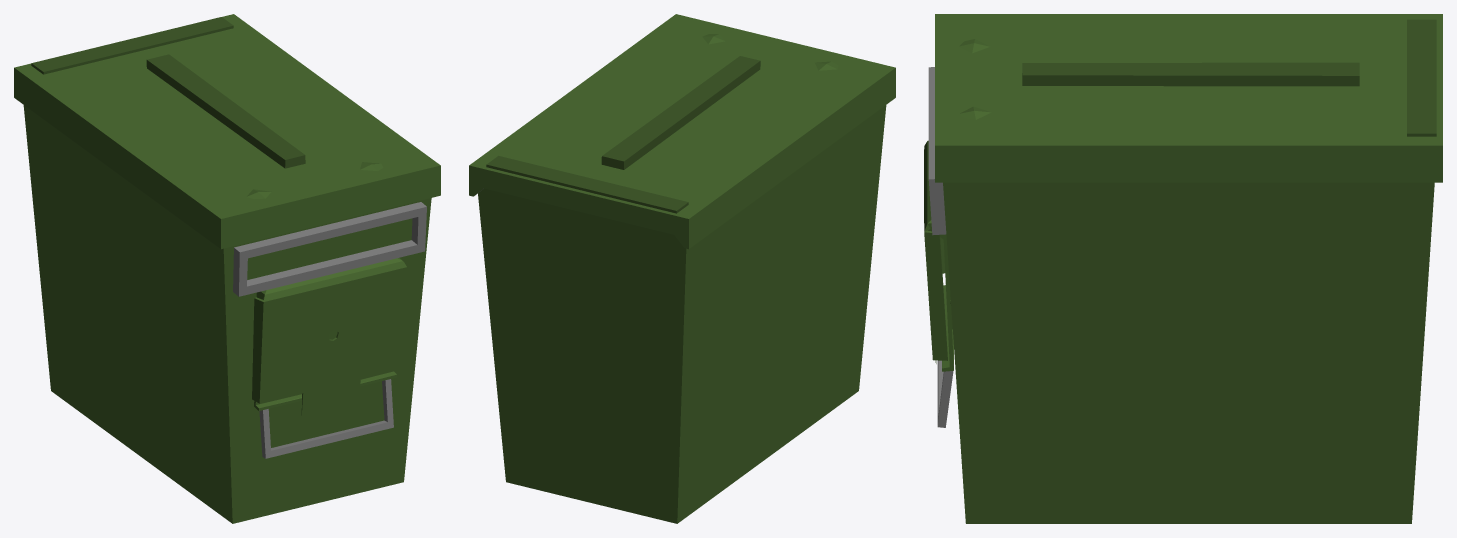
The model's file is AmmoBox.fbx.
3 views of the same model, side by side, from view 1: azimuth 30°, elevation 25°; view 2: azimuth 150°, elevation 25°; view 3: azimuth 270°, elevation 25° (orthographic). The views are drawn at different scales.
Parts seen in each view (by area): view 1: AmmoBox_LOD0; view 2: AmmoBox_LOD0; view 3: AmmoBox_LOD0.
Boxes of the visible parts, bbox=[...] form: AmmoBox_LOD0: bbox=[14, 14, 440, 523]; AmmoBox_LOD0: bbox=[469, 14, 895, 523]; AmmoBox_LOD0: bbox=[924, 14, 1442, 523].
Bounding box in the file's own units: 126 × 180 × 209.
